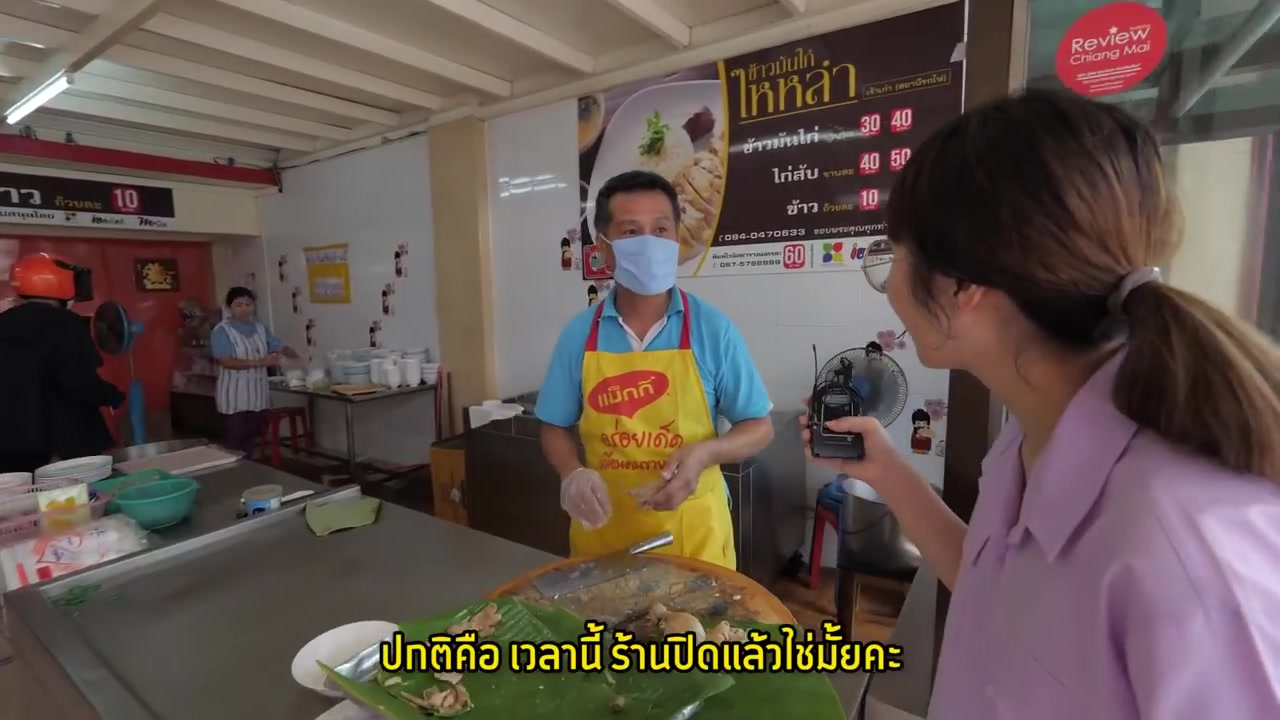text-label: (375, 617, 907, 678)
